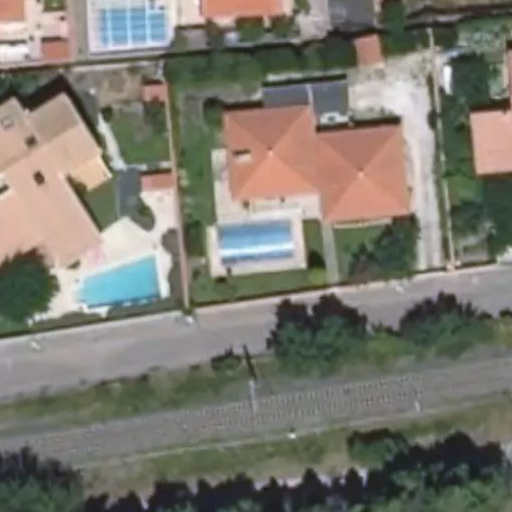pool: (218, 226, 293, 257)
